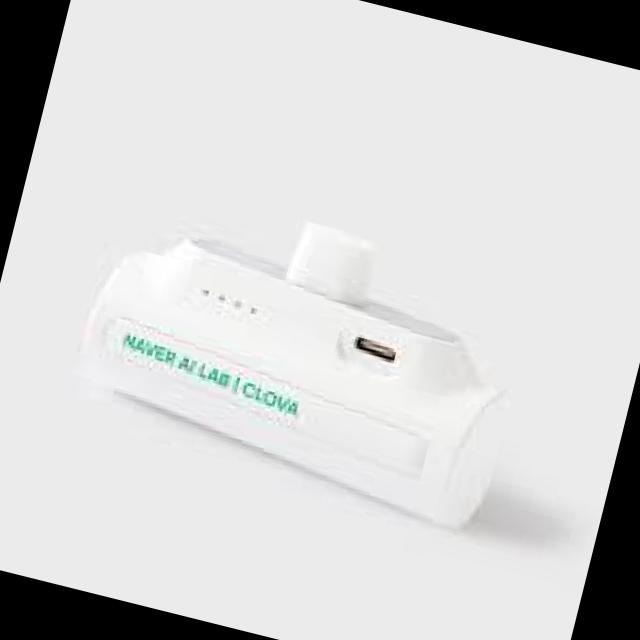power_bank: (58, 167, 548, 541)
